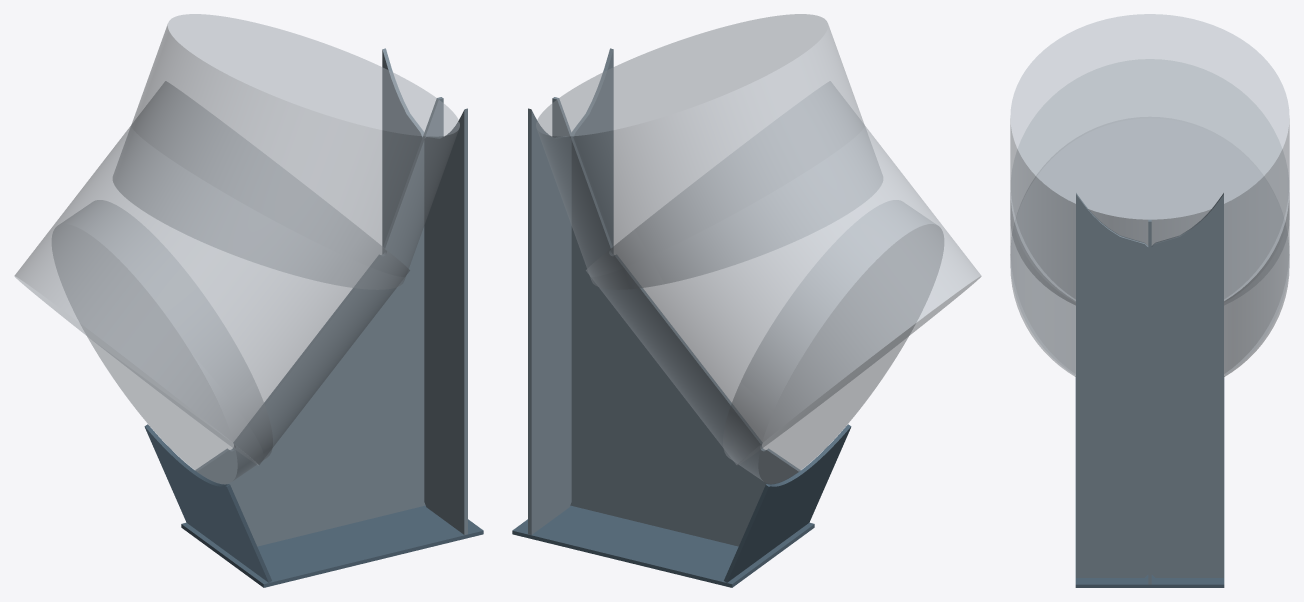
The model's file is TS-631.000-18-opora-dn1220-R1830.glb.
The picture shows the model from 3 angles, left to right: view 1: azimuth 30°, elevation 25°; view 2: azimuth 150°, elevation 25°; view 3: azimuth 270°, elevation 25°; orthographic projection. The views are drawn at different scales.
Visible parts, largest first — view 1: truba_1, truba_0, kosynka_1, truba_2, rebro_3, osnovanie_0, sedlo_4, rebro_2; view 2: truba_1, truba_0, kosynka_1, truba_2, rebro_2, osnovanie_0, sedlo_4, rebro_3; view 3: truba_0, truba_1, rebro_2, rebro_3, truba_2, osnovanie_0, kosynka_1.
Boxes of the visible parts, x1=… form: truba_1: x1=14, y1=81, x2=409, y2=465; truba_0: x1=113, y1=14, x2=459, y2=289; kosynka_1: x1=195, y1=97, x2=443, y2=546; truba_2: x1=52, y1=200, x2=272, y2=483; rebro_3: x1=424, y1=108, x2=467, y2=534; osnovanie_0: x1=181, y1=505, x2=483, y2=587; sedlo_4: x1=144, y1=424, x2=271, y2=582; rebro_2: x1=382, y1=48, x2=423, y2=253; truba_1: x1=586, y1=81, x2=981, y2=465; truba_0: x1=536, y1=14, x2=882, y2=289; kosynka_1: x1=552, y1=97, x2=800, y2=546; truba_2: x1=723, y1=200, x2=943, y2=483; rebro_2: x1=528, y1=108, x2=571, y2=534; osnovanie_0: x1=512, y1=505, x2=814, y2=587; sedlo_4: x1=724, y1=424, x2=851, y2=582; rebro_3: x1=572, y1=48, x2=613, y2=253; truba_0: x1=1010, y1=14, x2=1289, y2=305; truba_1: x1=1010, y1=59, x2=1289, y2=376; rebro_2: x1=1151, y1=193, x2=1223, y2=577; rebro_3: x1=1076, y1=193, x2=1148, y2=577; truba_2: x1=1010, y1=235, x2=1289, y2=375; osnovanie_0: x1=1075, y1=490, x2=1224, y2=587; kosynka_1: x1=1148, y1=219, x2=1151, y2=584.
Size of the model in its own units: 1822 by 2232 by 1220.
